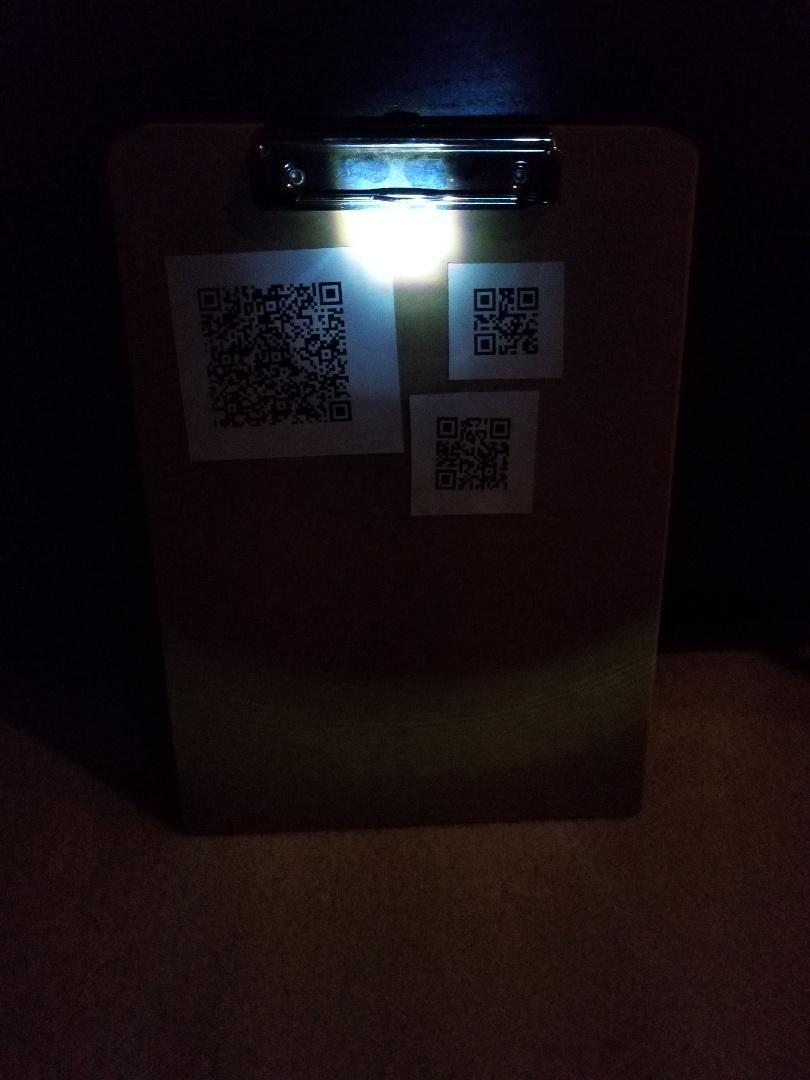qr_code: (197, 282, 354, 428), (435, 417, 513, 491), (473, 287, 539, 355)
